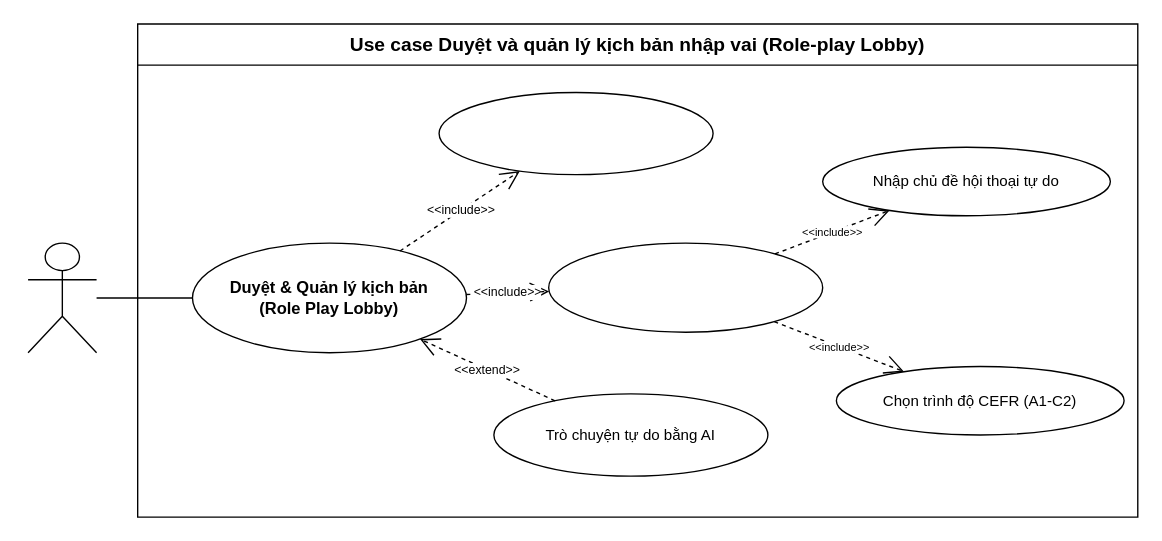
The diagram is 1162 pixels wide and 541 high, and some of its shapes have lost their labels. The shapes that lost their labels are listed below. From the top down, each one's centre as x and y in pixels, then its label:
At (x=575, y=133): "Chọn kịch bản & Bắt đầu học".
At (x=62, y=297): "Người học".
At (x=685, y=287): "Tạo kịch bản mới bằng AI".
